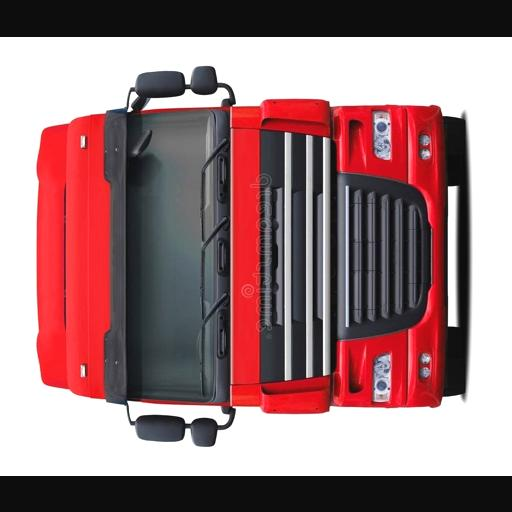truck: (35, 62, 468, 450)
